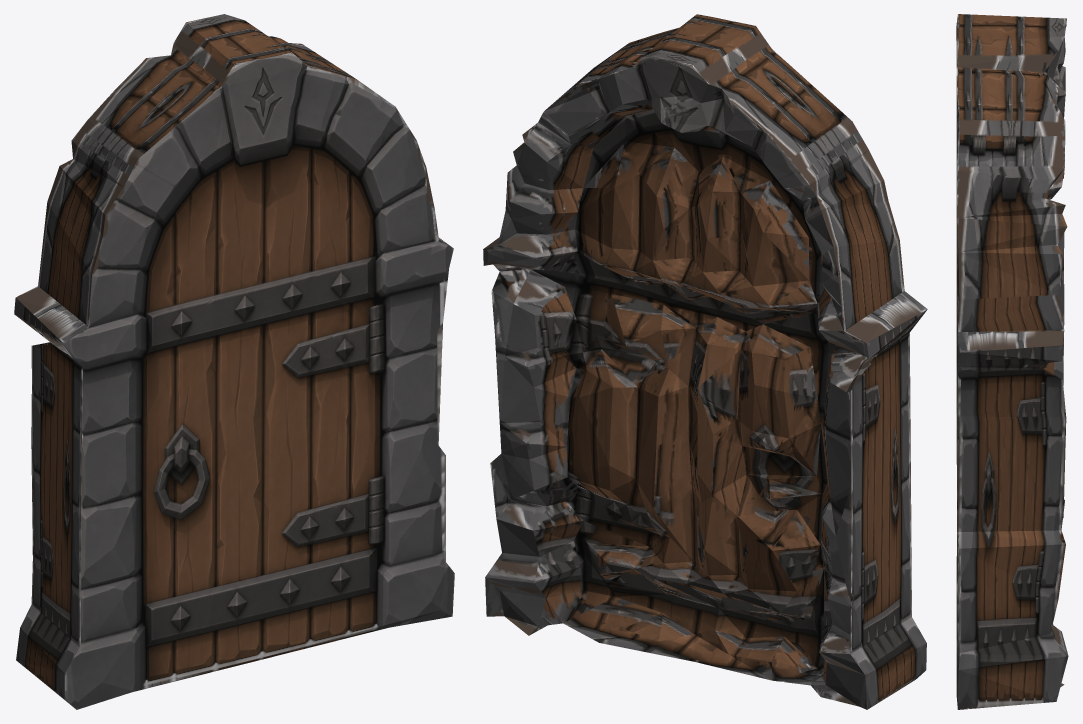
The model's file is SM_Dungeon_Door_A_LOD1.fbx.
3 renders of one model, left to right at view 1: azimuth 30°, elevation 25°; view 2: azimuth 150°, elevation 25°; view 3: azimuth 270°, elevation 25°, orthographic. The views are drawn at different scales.
Visible parts, largest first — view 1: SM_Dungeon_Door_A_LOD1; view 2: SM_Dungeon_Door_A_LOD1; view 3: SM_Dungeon_Door_A_LOD1.
Part boxes in pixels (x1,y1,x2,y2): SM_Dungeon_Door_A_LOD1: (14,14,454,709); SM_Dungeon_Door_A_LOD1: (483,14,927,709); SM_Dungeon_Door_A_LOD1: (956,14,1068,709).
Bounding box in the file's own units: 2.02 × 2.99 × 0.5125.
